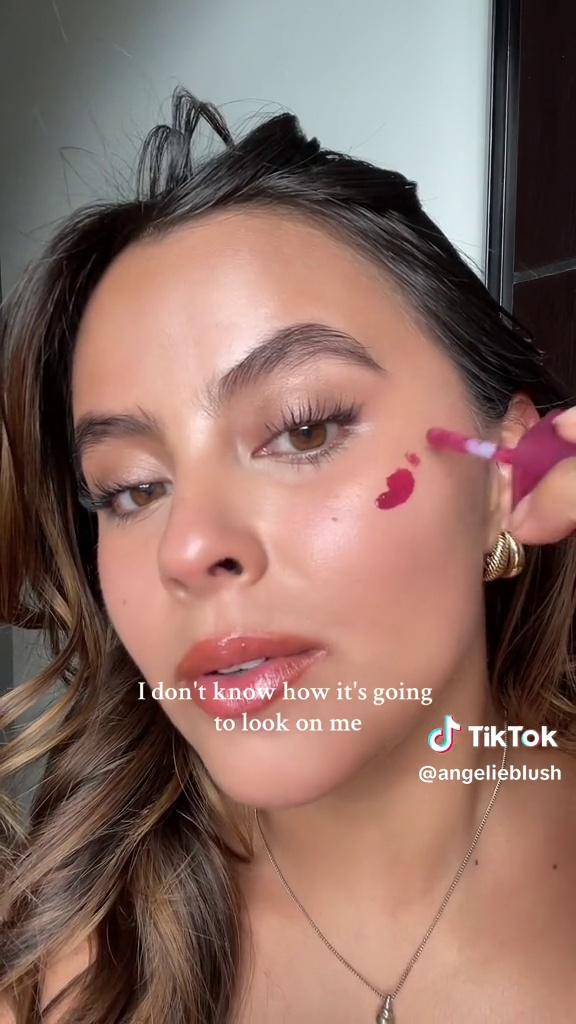train' :'yolo_data/train/images',: (409, 394, 575, 534)
